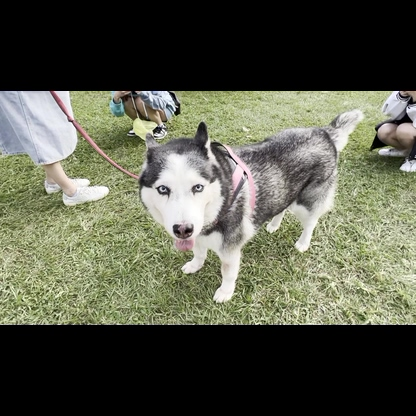husky: (138, 106, 368, 305)
